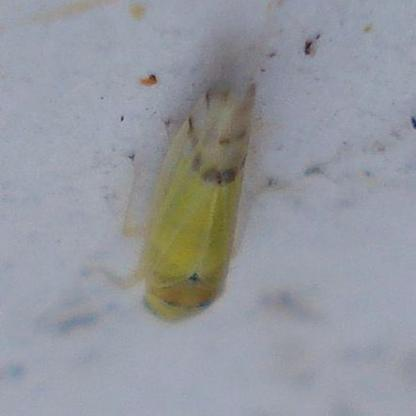green-leafhopper: (97, 64, 262, 322)
